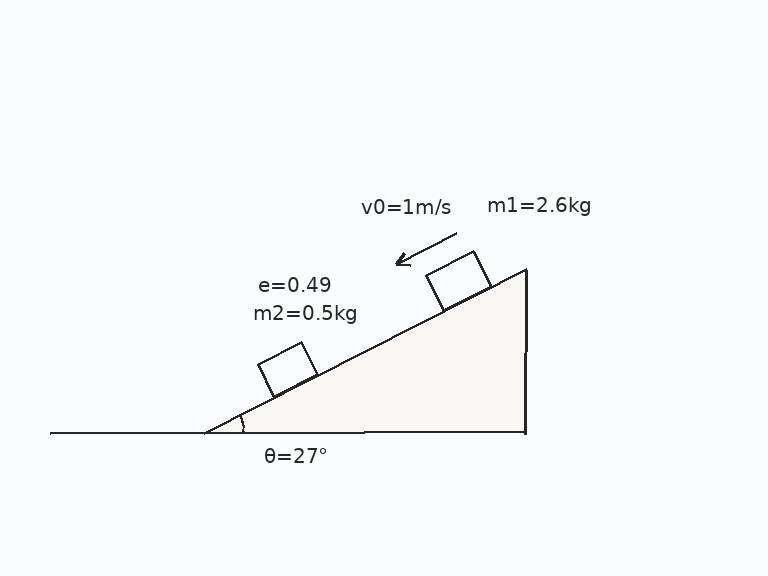block: (424, 249, 493, 312), (256, 340, 319, 398)
ramp: (202, 266, 528, 434)
